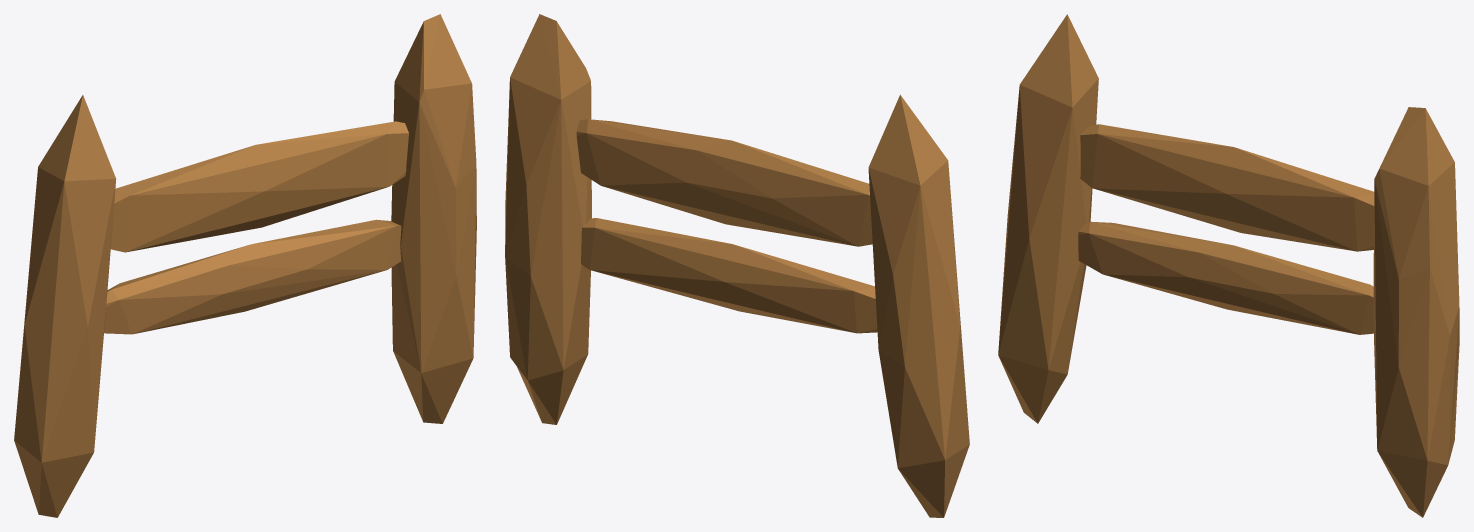
File: low_poly_fence.glb
The picture shows the model from 3 angles, left to right: view 1: azimuth 30°, elevation 25°; view 2: azimuth 150°, elevation 25°; view 3: azimuth 330°, elevation 25°; orthographic projection.
Parts seen in each view (by area): view 1: Cube.001; view 2: Cube.001; view 3: Cube.001.
Boxes of the visible parts, x1,y1,x2,y2 form: Cube.001: [14, 14, 476, 517]; Cube.001: [505, 14, 969, 517]; Cube.001: [998, 14, 1459, 517].
Size of the model in its own units: 122 by 108 by 19.2.
